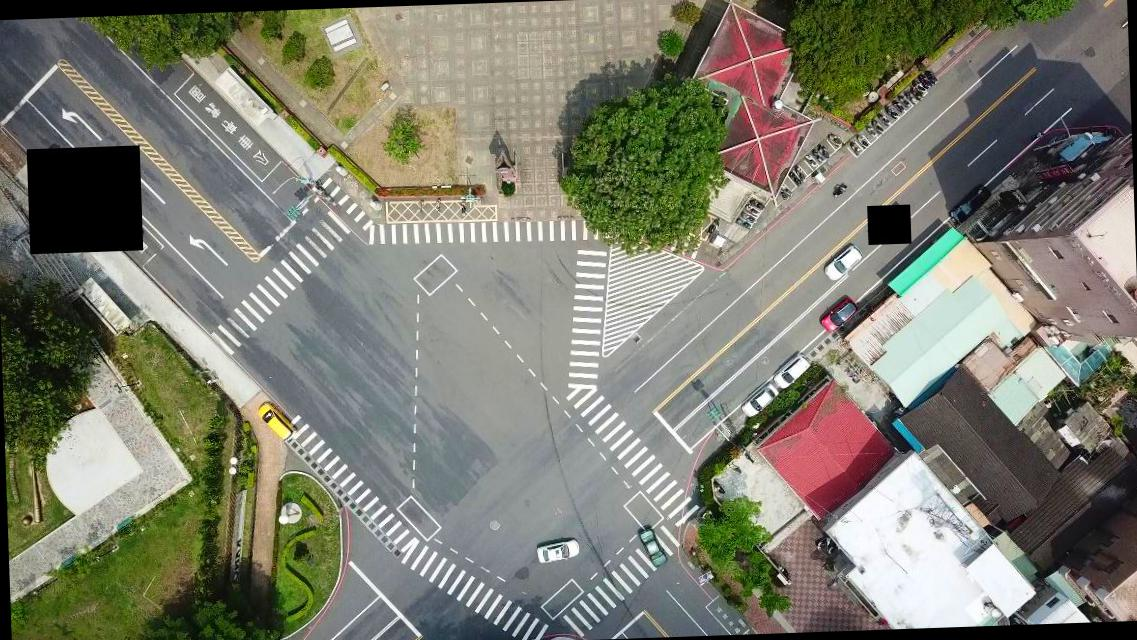vehicle: (946, 182, 992, 225), (256, 402, 295, 443), (772, 352, 810, 390), (824, 245, 862, 282), (818, 298, 858, 333), (740, 383, 778, 418), (534, 536, 580, 564), (638, 528, 666, 568)
